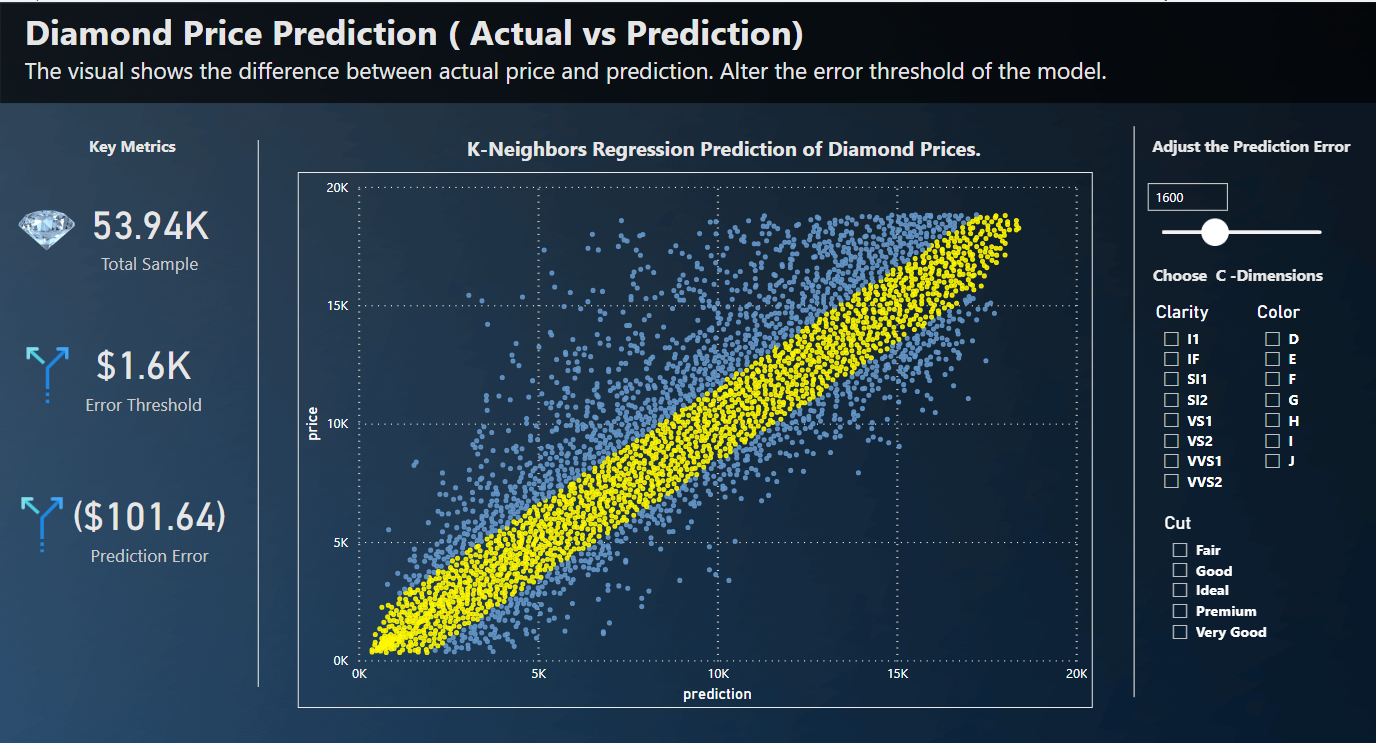

Layout of this report page (visuals, bound fields, positions):
{"tool":"powerbi","page":{"name":"Main","canvas":[1280,690],"ordinal":0},"visuals":[{"type":"scatterChart","fields":{"X":["Sum(diamonds2.prediction)"],"Y":["Sum(diamonds2.price)"],"Category":["diamonds2.Index"]},"box":[277.9,158.6,738.8,497.5],"z":0},{"type":"card","fields":{"Values":["Parameter.Parameter Value"]},"box":[35.8,290.3,196.8,109.6],"z":1000},{"type":"slicer","fields":{"Values":["Parameter.Parameter"]},"box":[1054.7,158.6,195.2,80],"z":2000},{"type":"slicer","title":"Color","fields":{"Values":["diamonds2.color"]},"box":[1164.4,277.7,115.6,227.7],"z":3000},{"type":"slicer","title":"Clarity","fields":{"Values":["diamonds2.clarity"]},"box":[1070.7,277.5,100.1,253.3],"z":4000},{"type":"card","fields":{"Values":["CountNonNull(diamonds2.Index)"]},"box":[48.8,162.9,182.3,104.4],"z":5000},{"type":"textbox","box":[1.7,1.7,1279.1,93.2],"z":6000},{"type":"image","box":[0,184.4,88.1,54.2],"z":7000},{"type":"image","box":[0,455.8,80,60.7],"z":8000},{"type":"textbox","box":[1055.5,118.3,213.8,40.9],"z":9000},{"type":"card","fields":{"Values":["diamonds2.Average difference"]},"box":[42,431.1,196.6,109.8],"z":10000},{"type":"image","box":[5,316,80.4,62.2],"z":11000},{"type":"textbox","box":[1017.8,234.6,262.2,56.1],"z":12000},{"type":"textbox","box":[356.4,118.3,633.9,40.9],"z":13000},{"type":"basicShape","box":[1026.7,106.2,56.1,550.5],"z":14000},{"type":"basicShape","box":[213.8,118.3,54.6,527.8],"z":15000},{"type":"slicer","title":"Cut","fields":{"Values":["diamonds2.cut"]},"box":[1078.2,474.4,171.6,150.1],"z":16000},{"type":"textbox","box":[1.5,118.3,241.1,40.9],"z":17000}]}

Visuals, with their boxes in screenshot pixels (x1, y1, x2, y2), scaled from the page's 1280x690 canvas onto the 1376x743 screenshot:
scatterChart - Sum(diamonds2.prediction) x Sum(diamonds2.price): 299,171,1093,706
card - Parameter.Parameter Value: 38,313,250,431
slicer - Parameter.Parameter: 1134,171,1344,257
"Color" slicer: 1252,299,1375,544
"Clarity" slicer: 1151,299,1259,572
card - CountNonNull(diamonds2.Index): 52,175,248,288
textbox: 2,2,1375,102
image: 0,199,95,257
image: 0,491,86,556
textbox: 1135,127,1364,171
card - diamonds2.Average difference: 45,464,256,582
image: 5,340,92,407
textbox: 1094,253,1375,313
textbox: 383,127,1065,171
basicShape: 1104,114,1164,707
basicShape: 230,127,289,696
"Cut" slicer: 1159,511,1344,672
textbox: 2,127,261,171
